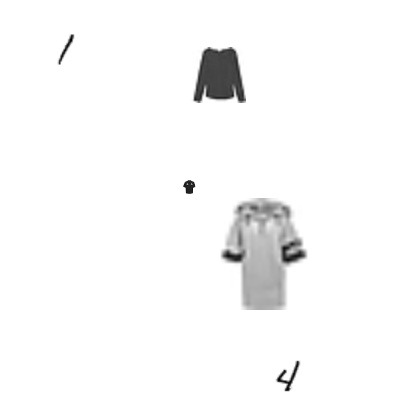1: (44, 27, 86, 69)
4: (267, 355, 309, 397)
Pullover: (206, 198, 318, 310)
Shirt: (190, 47, 246, 103), (182, 180, 196, 194)
